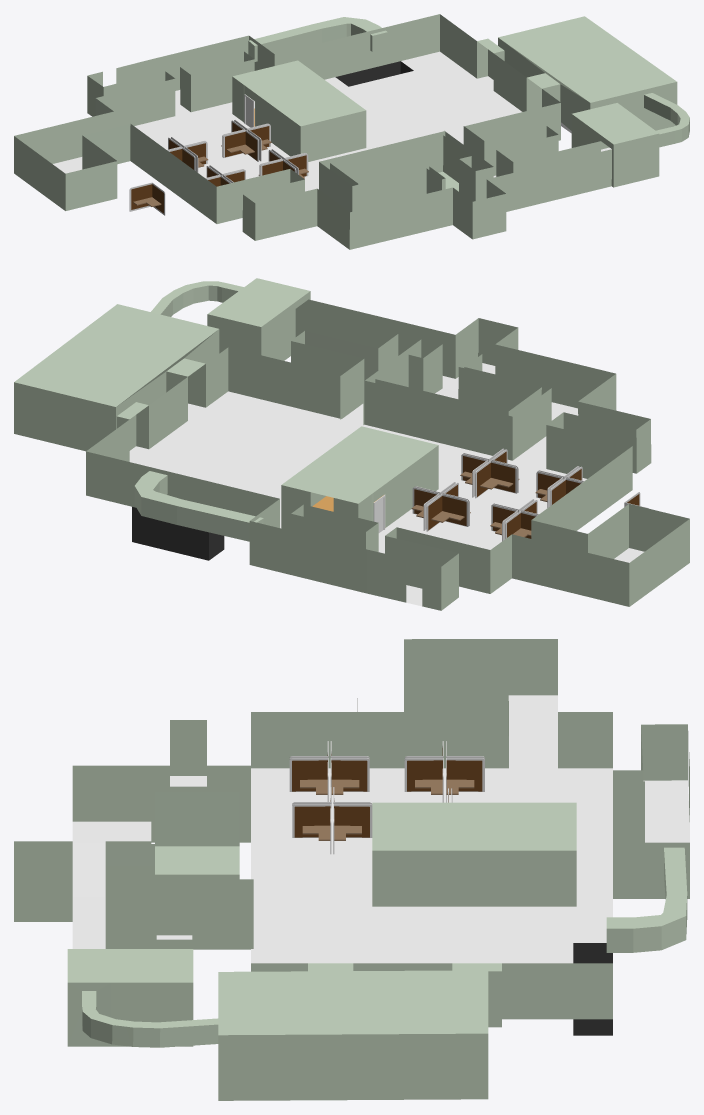
The model's file is CharlieMockUp.fbx.
3 views of the same model, one above another, from view 1: azimuth 30°, elevation 25°; view 2: azimuth 150°, elevation 25°; view 3: azimuth 270°, elevation 25° (orthographic). The views are drawn at different scales.
Visible parts, largest first — view 1: Cube.027, Cube.028, Cube.031, Cube.029, Cube.035, Cube.030; view 2: Cube.027, Cube.031, Cube.028, Cube.035, Cube.030; view 3: Cube.027, Cube.031, Cube.030, Cube.035.
Boxes of the visible parts, left/top/right/bottom form: Cube.027: left=14, top=14, right=689, bottom=249; Cube.028: left=221, top=119, right=271, bottom=161; Cube.031: left=258, top=149, right=308, bottom=178; Cube.029: left=129, top=182, right=165, bottom=215; Cube.035: left=167, top=137, right=208, bottom=172; Cube.030: left=205, top=165, right=245, bottom=186; Cube.027: left=14, top=278, right=689, bottom=610; Cube.031: left=460, top=448, right=519, bottom=498; Cube.028: left=411, top=482, right=470, bottom=531; Cube.035: left=490, top=499, right=538, bottom=541; Cube.030: left=535, top=466, right=583, bottom=507; Cube.027: left=14, top=639, right=689, bottom=1100; Cube.031: left=292, top=787, right=372, bottom=854; Cube.030: left=289, top=741, right=369, bottom=807; Cube.035: left=404, top=741, right=484, bottom=802.
Size of the model in its own units: 4401 by 557 by 3136.
